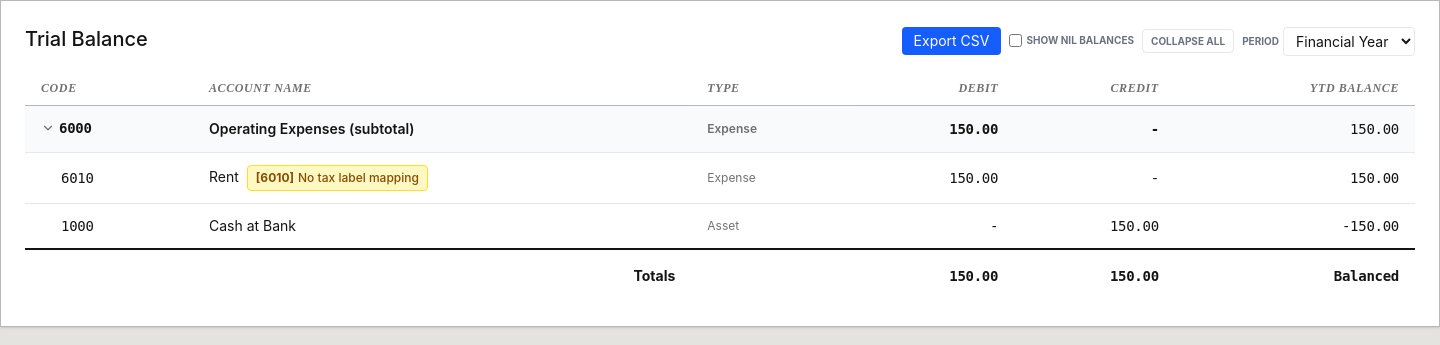
Test case: TrialBalance Phase 4 refactor (BOOK-07, BOOK-09) › collapsibility: parent chevron toggles child visibility
Check: the row with test id "tb-row-6010" is shown, box left=25, top=152, right=1415, bottom=203
Click the button with test id "tb-collapse-6000" at (66, 128), box left=37, top=118, right=96, bottom=138
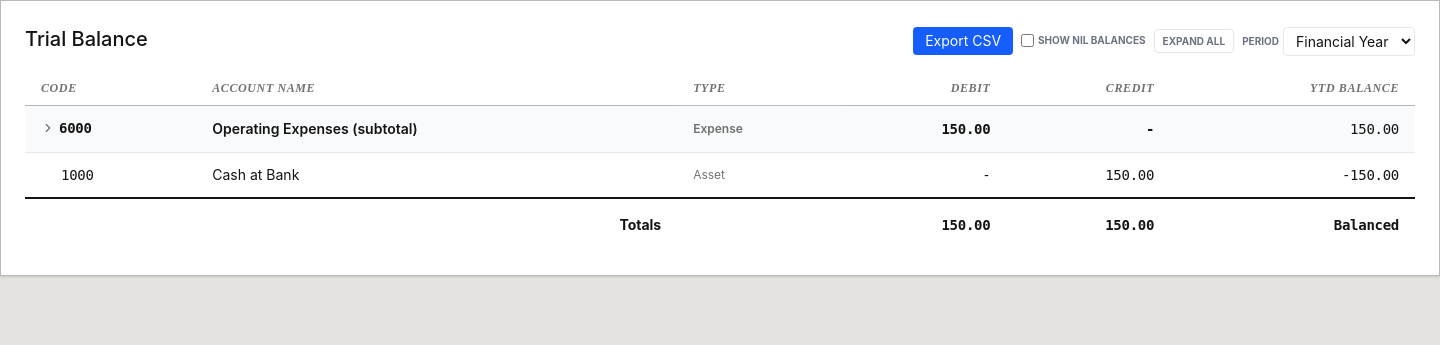
Check: the row with test id "tb-parent-6000" is shown, box left=25, top=105, right=1415, bottom=152
Check: the row with test id "tb-row-6010" is gone
Note: Click again — restored.
Click the button with test id "tb-collapse-6000" at (66, 128), box left=37, top=118, right=96, bottom=138
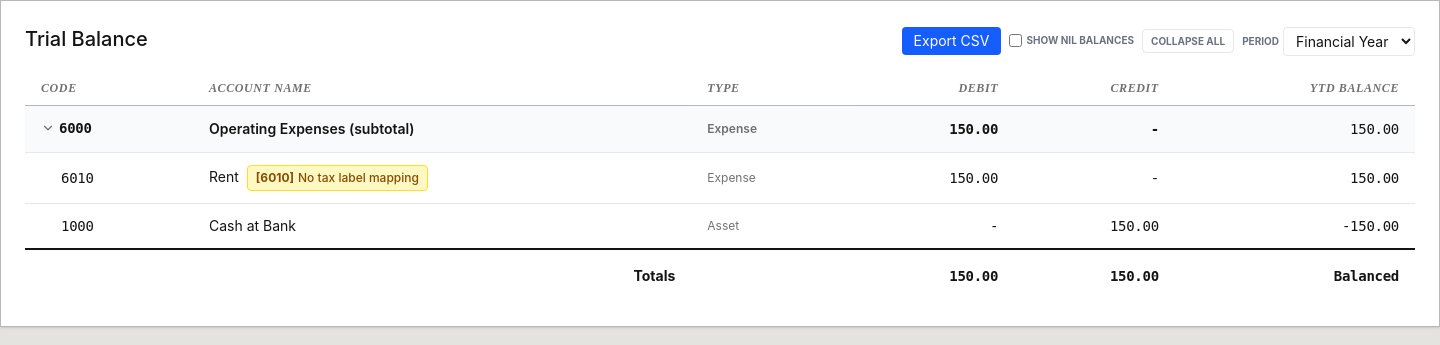
Check: the row with test id "tb-row-6010" is shown, box left=25, top=152, right=1415, bottom=203
